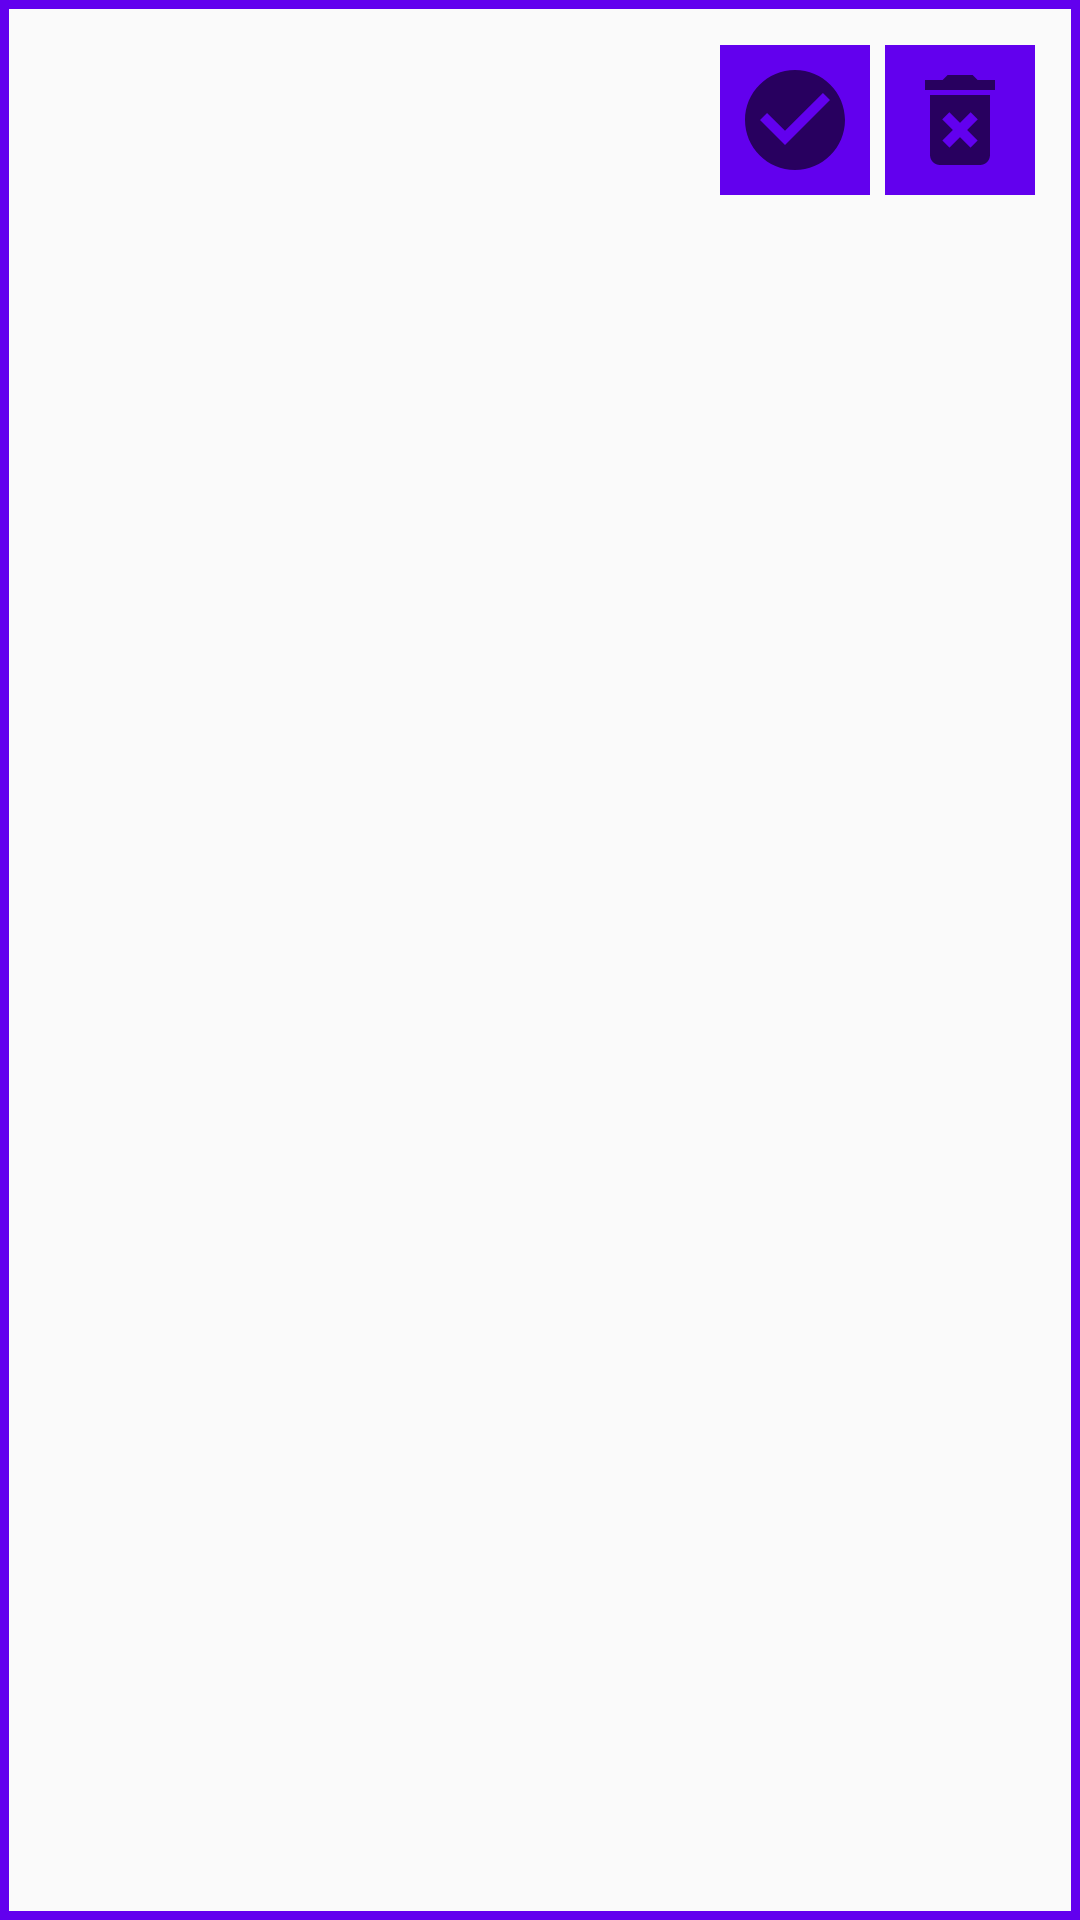

Named icons in this screenshot (1080px×1920px) and their centers, point (x, y):
check circle: point (795, 120)
delete forever: point (960, 120)
